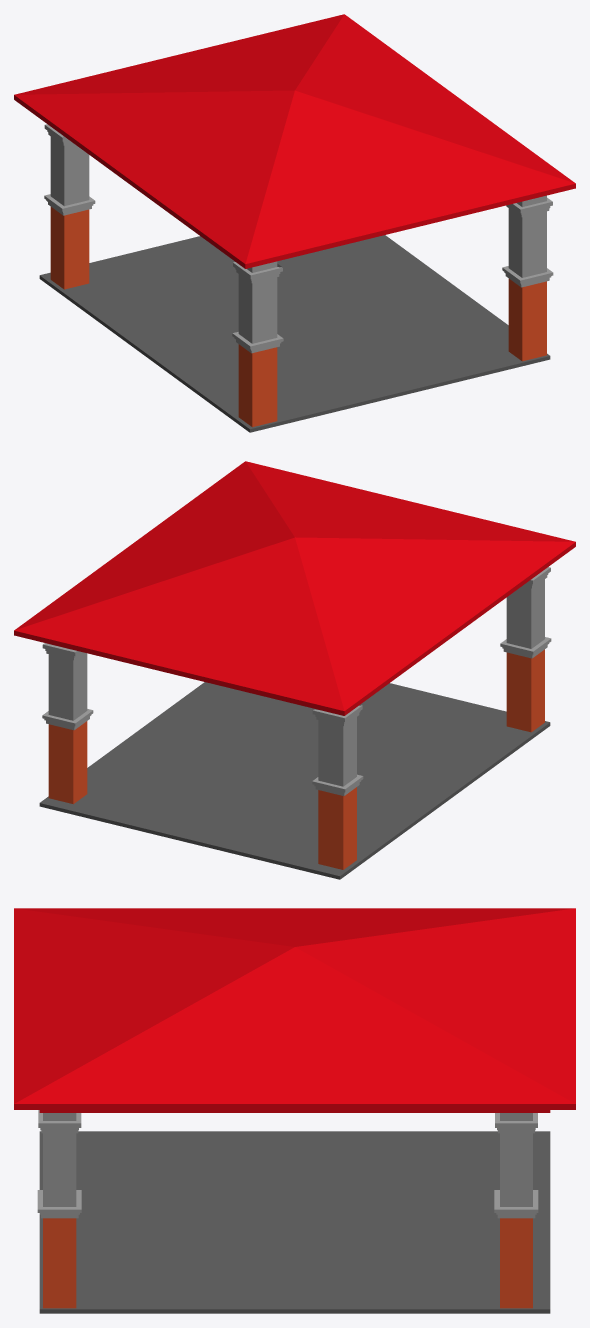
Rendered from shed4.fbx.
3 renders of one model, top to bottom at view 1: azimuth 30°, elevation 25°; view 2: azimuth 150°, elevation 25°; view 3: azimuth 270°, elevation 25°, orthographic. The views are drawn at different scales.
Visible parts, largest first — view 1: Cube.004; view 2: Cube.004; view 3: Cube.004.
Part boxes in pixels (<box>): Cube.004: <box>14,14,575,432</box>; Cube.004: <box>14,461,575,879</box>; Cube.004: <box>14,908,575,1313</box>.
Size of the model in its own units: 611 by 404 by 741.
